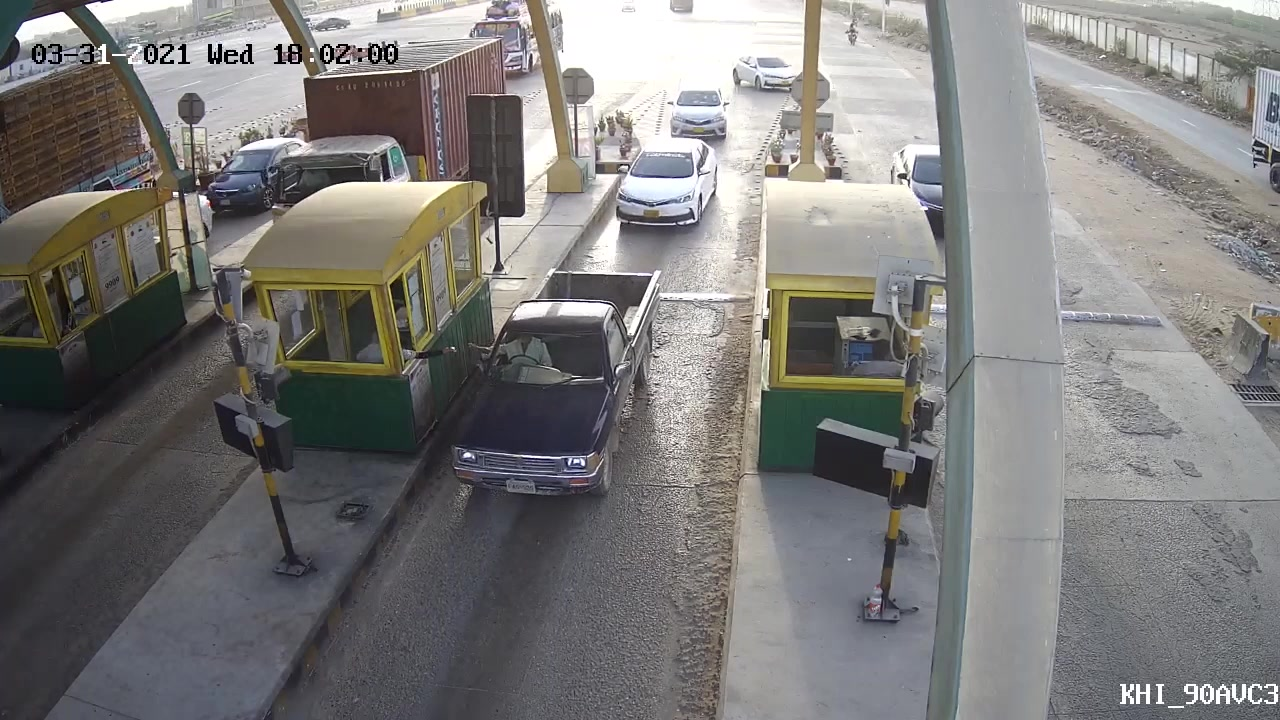F1: (442, 263, 663, 500), (610, 131, 721, 229)
